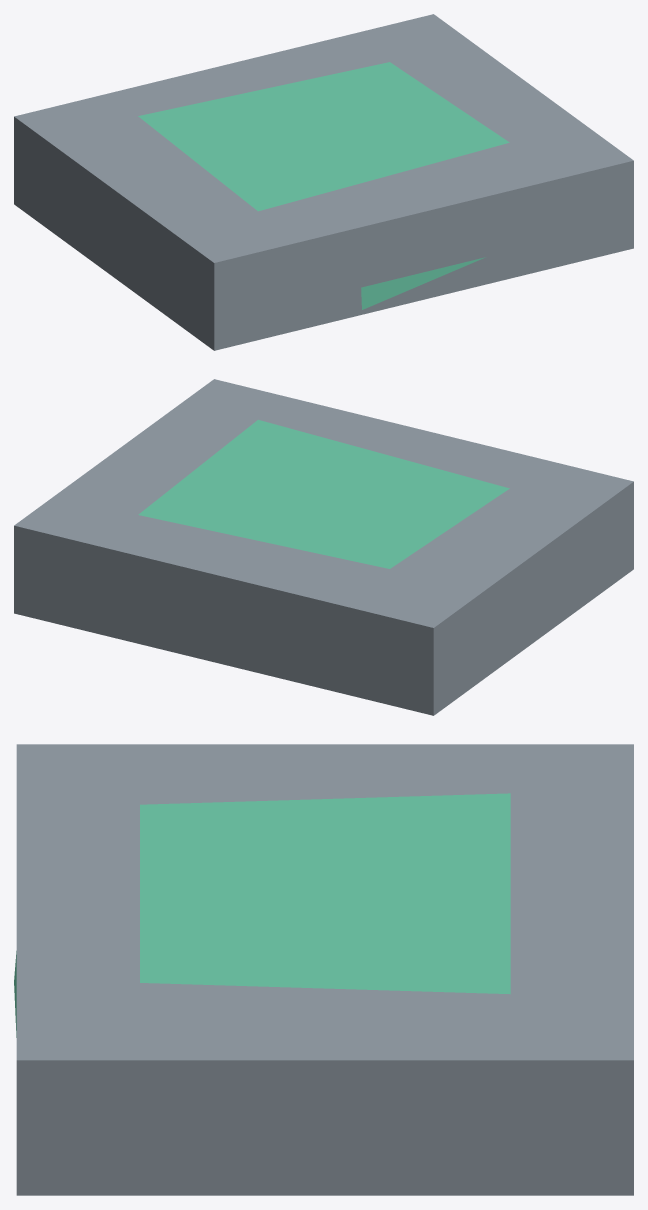
The model's file is CO_AgnipakshaBomber_LOD1.glb.
The picture shows the model from 3 angles, top to bottom: view 1: azimuth 30°, elevation 25°; view 2: azimuth 150°, elevation 25°; view 3: azimuth 270°, elevation 25°; orthographic projection. The views are drawn at different scales.
Parts seen in each view (by area): view 1: EntranceGate; view 2: EntranceGate; view 3: EntranceGate.
Part boxes in pixels (box(x1,y1,x2,y2)): EntranceGate: box(14, 14, 633, 350); EntranceGate: box(14, 379, 633, 715); EntranceGate: box(14, 744, 633, 1195).
Size of the model in its own units: 920 by 203 by 763.
